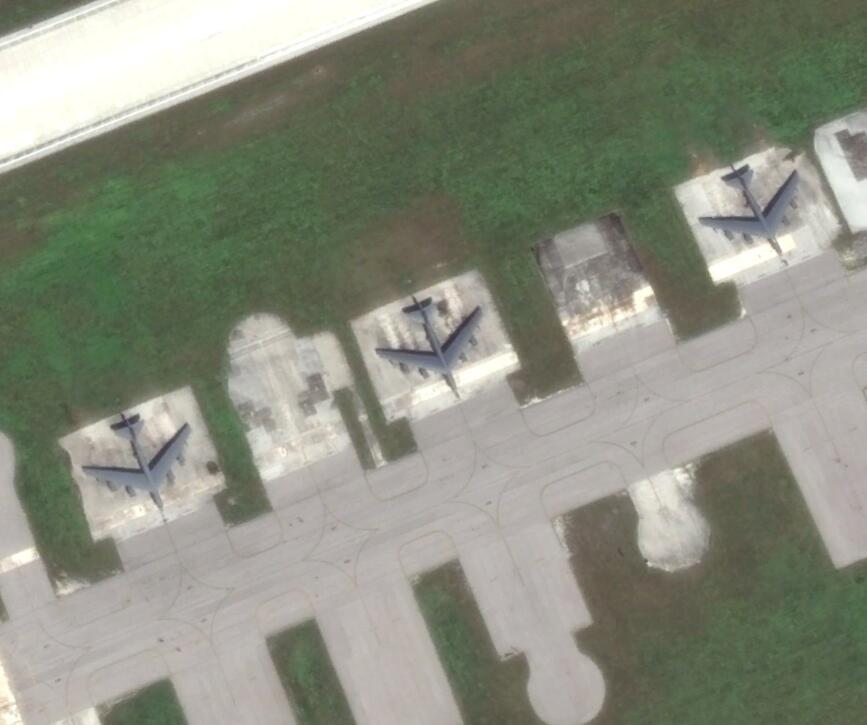A8: (79, 415, 198, 517), (377, 297, 493, 401), (701, 165, 807, 266)
